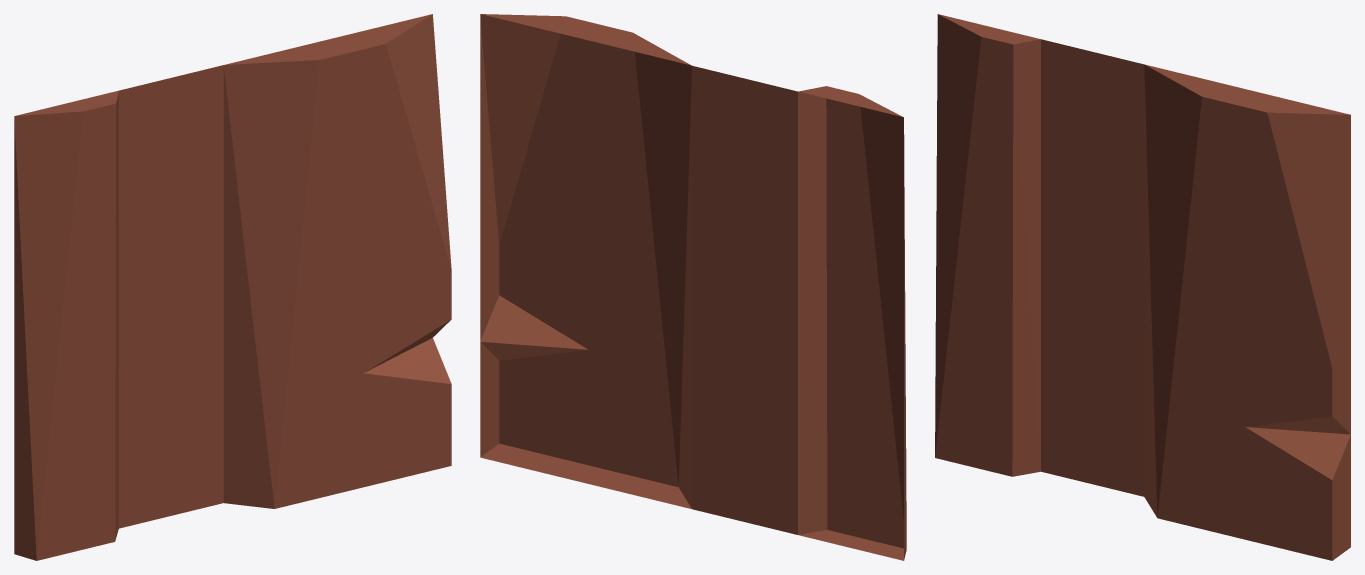
File: Wall_006.FBX
3 views of the same model, side by side, from view 1: azimuth 30°, elevation 25°; view 2: azimuth 150°, elevation 25°; view 3: azimuth 330°, elevation 25° (orthographic). The views are drawn at different scales.
Parts seen in each view (by area): view 1: Wall_006; view 2: Wall_006; view 3: Wall_006.
Part boxes in pixels (box(x1,y1,x2,y2)): Wall_006: box(14, 14, 451, 560); Wall_006: box(480, 14, 906, 560); Wall_006: box(935, 14, 1350, 560).
Bounding box in the file's own units: 78.74 × 78.74 × 6.14.
